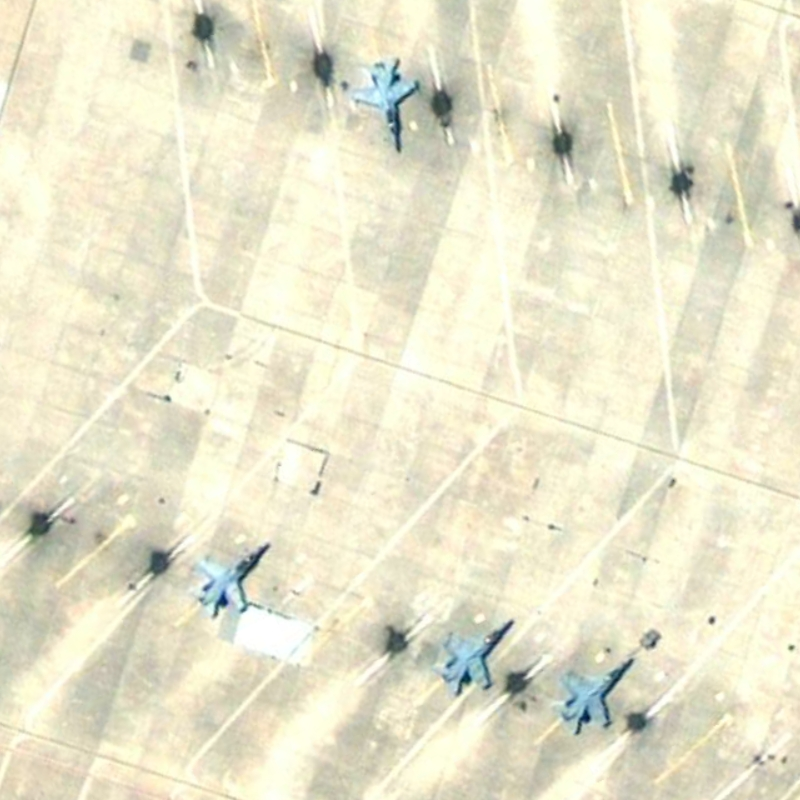A16: (344, 52, 427, 160), (548, 651, 643, 739), (432, 612, 521, 699), (186, 540, 274, 619)
